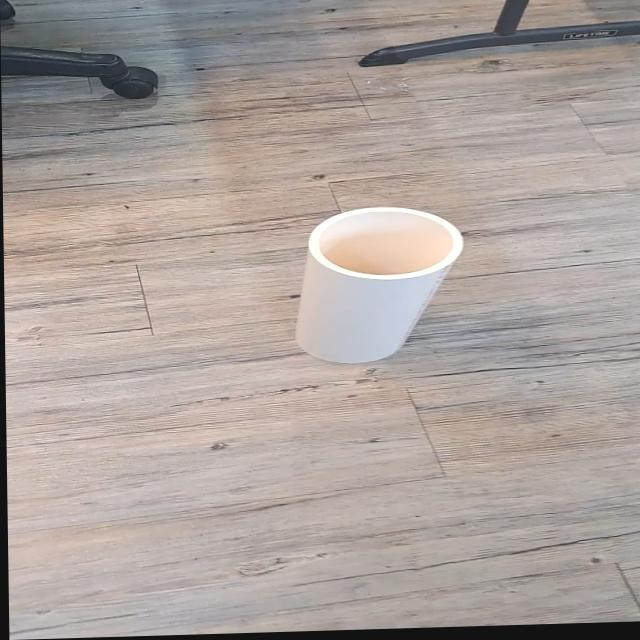CORAL: (282, 199, 486, 381)
